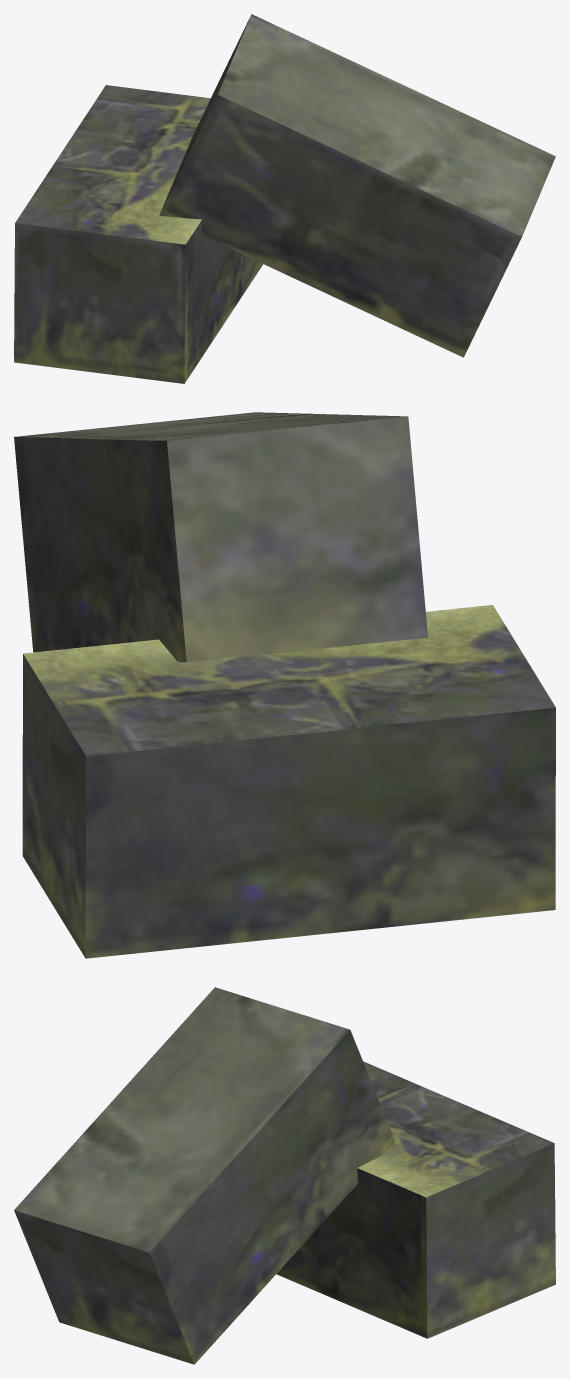
The model's file is zc_zhanchang001_qiang03_55_09_3259out.fbx.
3 views of the same model, one above another, from view 1: azimuth 30°, elevation 25°; view 2: azimuth 150°, elevation 25°; view 3: azimuth 270°, elevation 25° (orthographic). The views are drawn at different scales.
Visible parts, largest first — view 1: zc_zhanchang001_qiang03; view 2: zc_zhanchang001_qiang03; view 3: zc_zhanchang001_qiang03.
Part boxes in pixels (left/top/right/bottom): zc_zhanchang001_qiang03: left=14, top=14, right=555, bottom=383; zc_zhanchang001_qiang03: left=14, top=412, right=555, bottom=958; zc_zhanchang001_qiang03: left=14, top=987, right=555, bottom=1364.
Bounding box in the file's own units: 1.33 × 0.7675 × 1.35.
